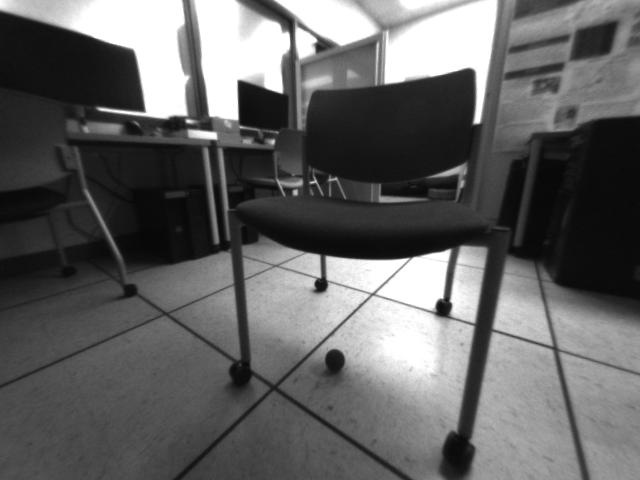dogtoy: (320, 344, 351, 380)
